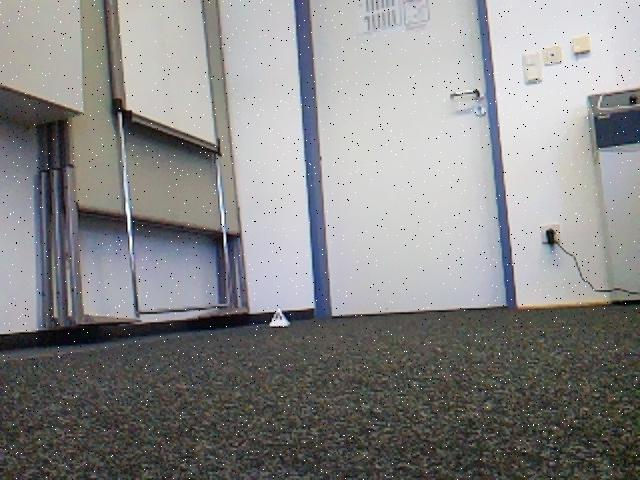A: (270, 307, 287, 325)
